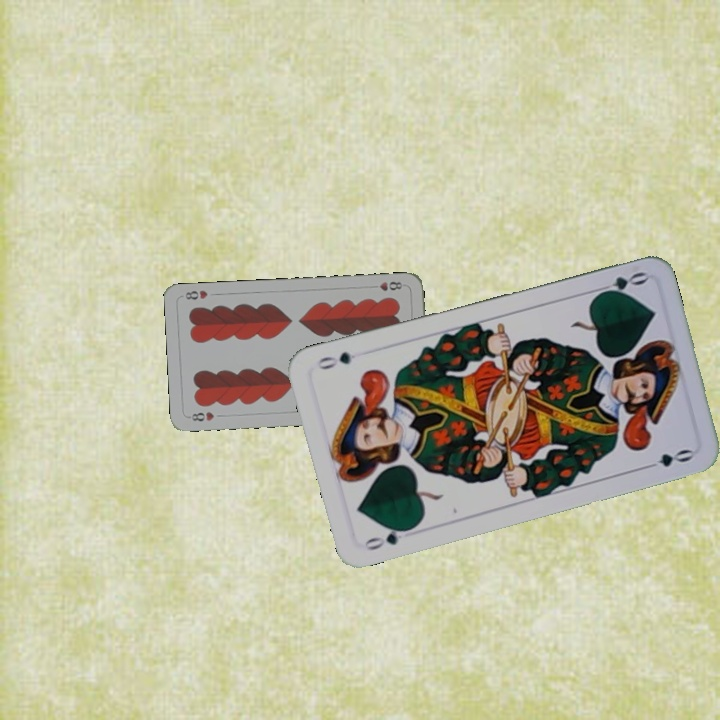GO: (590, 267, 649, 300), (360, 523, 417, 553)
H8: (367, 278, 405, 293), (185, 407, 217, 424)
